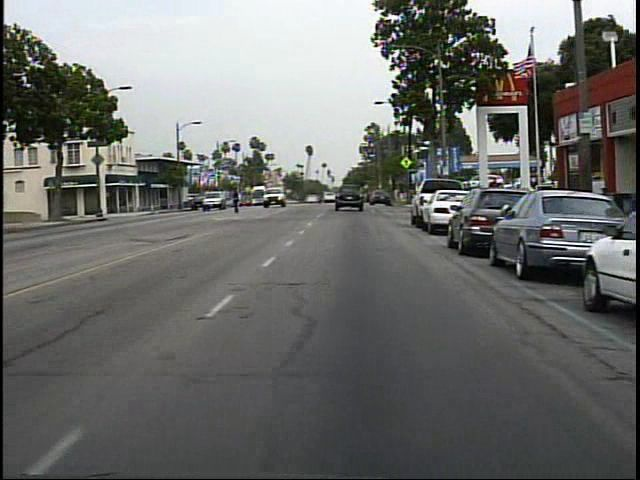person: (484, 172, 507, 219), (231, 183, 246, 217)
